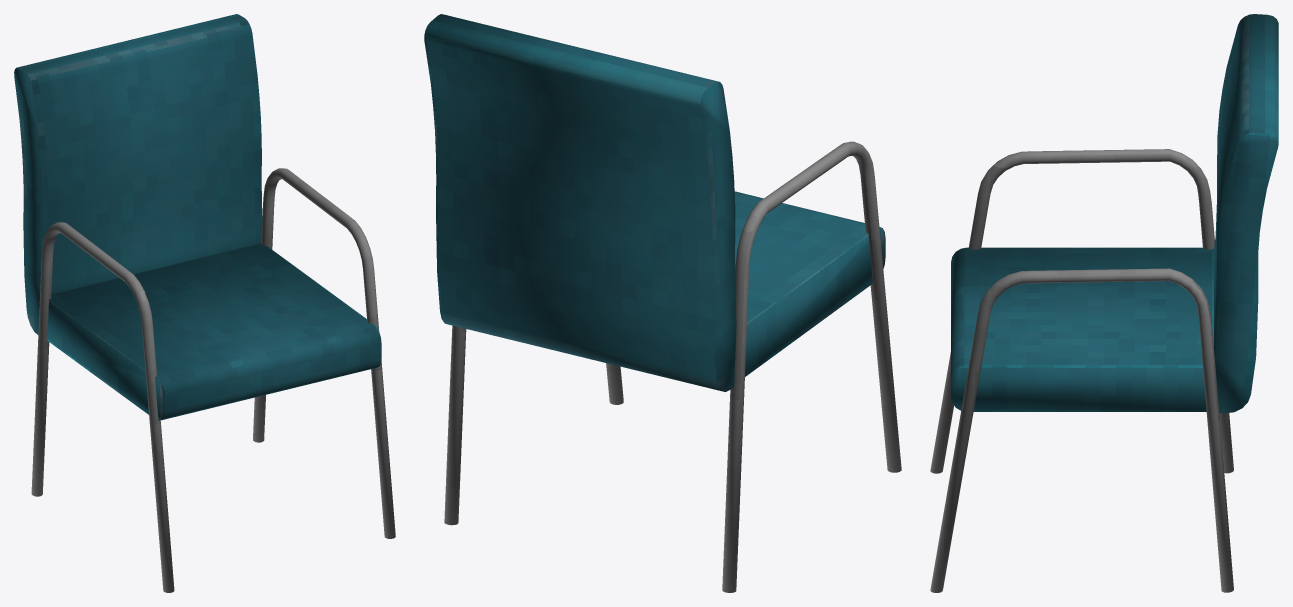
Rendered from Chair.glb.
3 views of the same model, side by side, from view 1: azimuth 30°, elevation 25°; view 2: azimuth 150°, elevation 25°; view 3: azimuth 270°, elevation 25° (orthographic). The views are drawn at different scales.
Visible parts, largest first — view 1: Chair.001; view 2: Chair.001; view 3: Chair.001.
Boxes of the visible parts, x1,y1,x2,y2 form: Chair.001: [14, 14, 395, 592]; Chair.001: [424, 14, 901, 592]; Chair.001: [930, 14, 1278, 592].
Bounding box in the file's own units: 0.8173 × 1.4 × 0.9656.
1 material, 1 textured.
